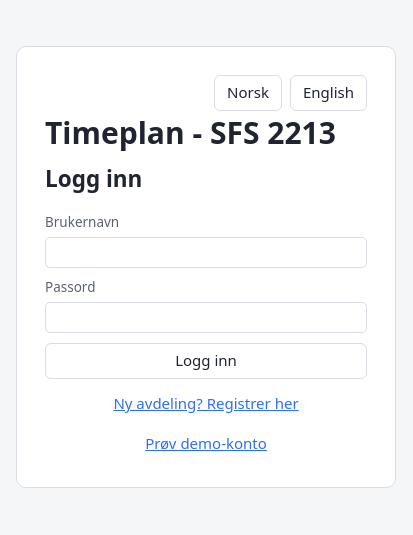
Test: InnloggingPanel › viser feilmelding ved mislykket innlogging
Type "ola.nordmann" into the field labelled "Brukernavn" at (206,253), box [45,237,367,268]
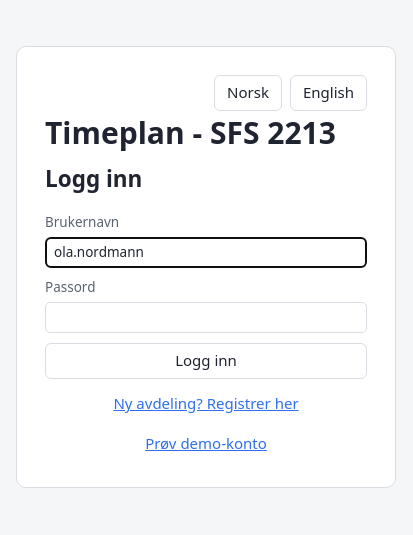
Type "feilPassord" into the password field labelled "Passord" at (206,318), box [45,302,367,334]
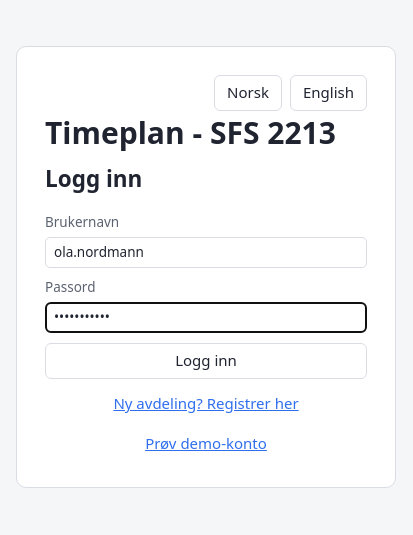
Click the button "Logg inn" at (206,361), box [45,343,367,379]
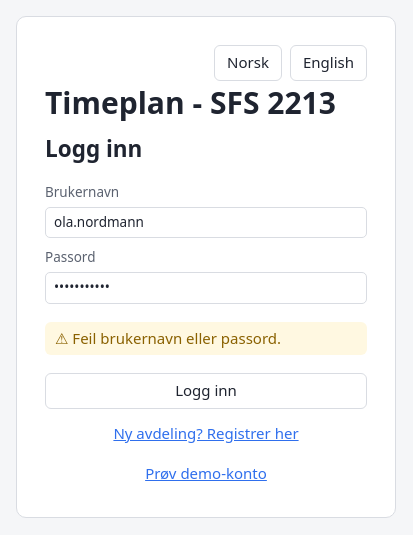
Expected: the text "⚠ Feil brukernavn eller passord." is shown, [45,322,367,355]
